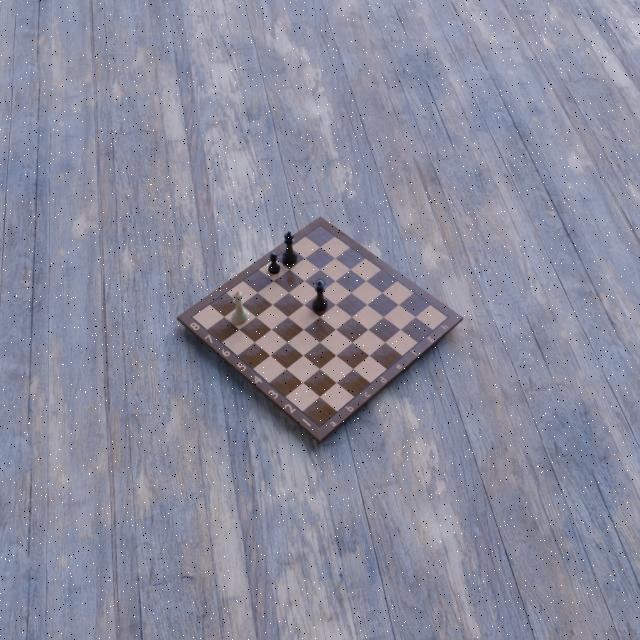black-king: (281, 230, 298, 264)
black-pawn: (268, 251, 280, 274)
black-queen: (311, 279, 328, 311)
white-king: (231, 289, 248, 323)
